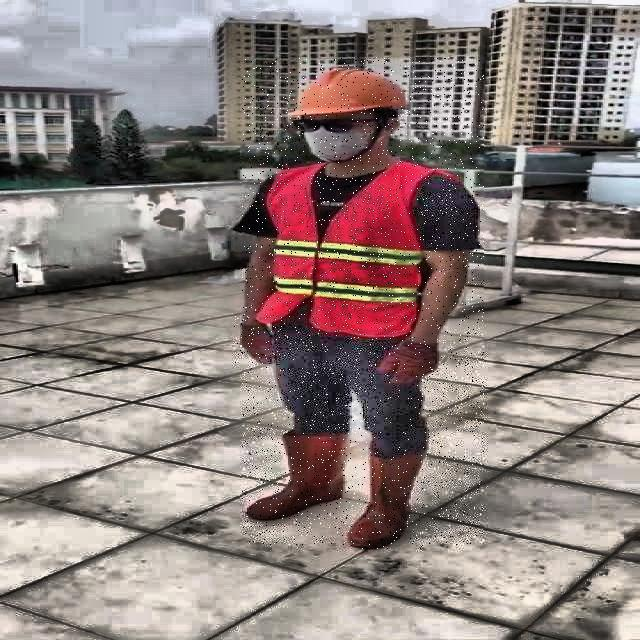safety_helmet: (280, 57, 410, 121)
safety_jacket: (258, 164, 423, 338)
